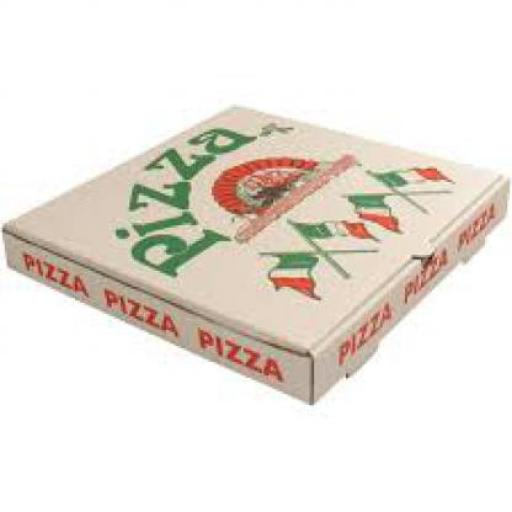cardboard: (0, 102, 510, 403)
